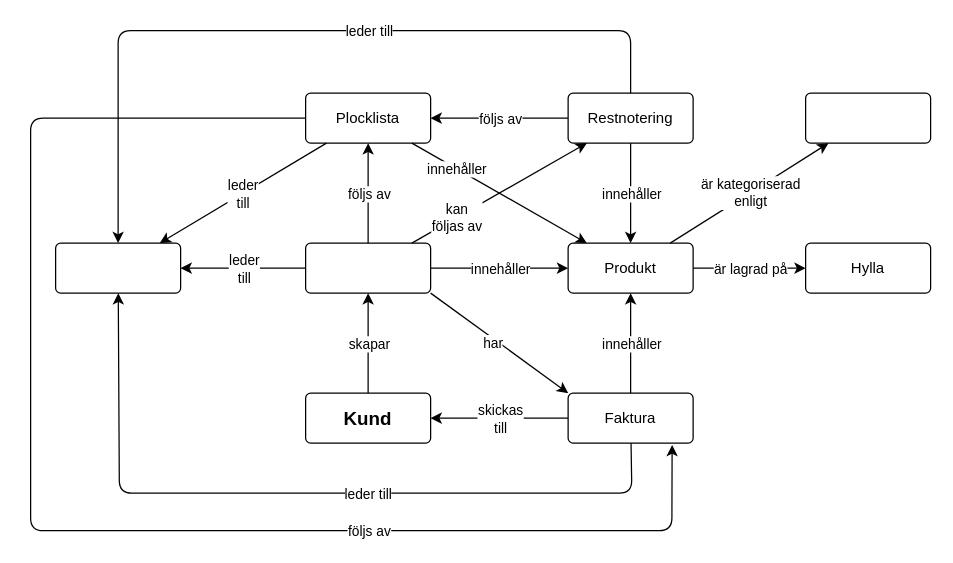
Image size: 953x563. Some labels were removed from this diagram. Each missing label, with the box of its shape:
Logg: (54, 242, 181, 293)
Order: (304, 242, 431, 293)
Produktkategori: (804, 92, 931, 143)
